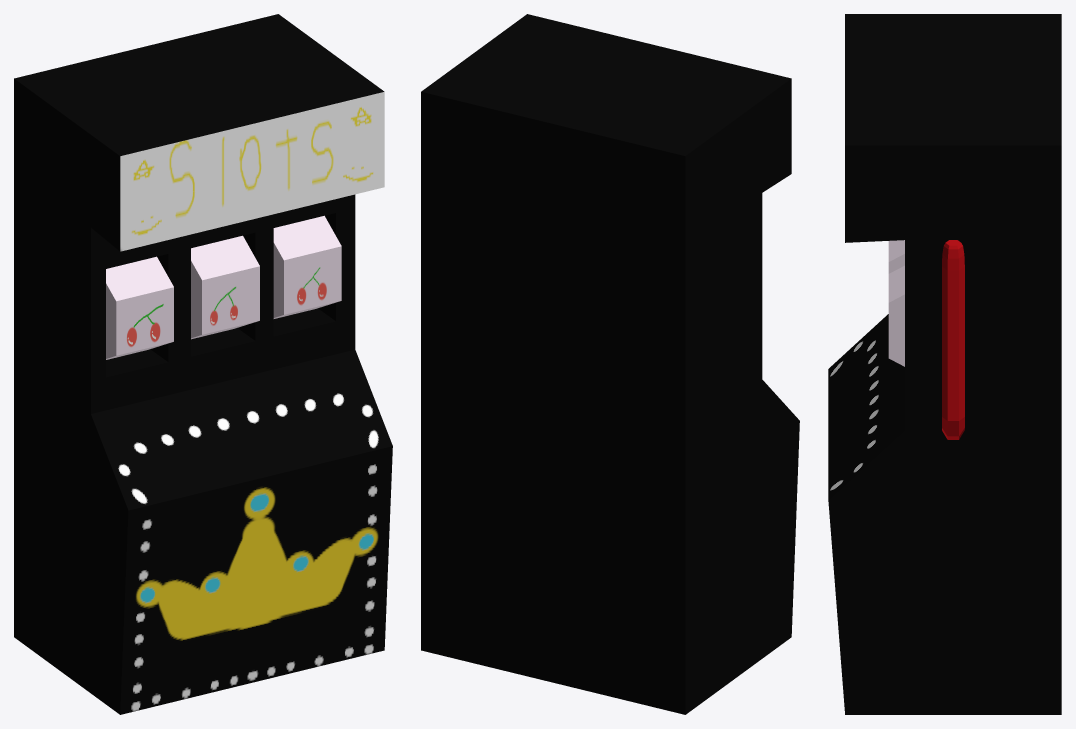
The model's file is SLOTMACHINE.fbx.
3 views of the same model, side by side, from view 1: azimuth 30°, elevation 25°; view 2: azimuth 150°, elevation 25°; view 3: azimuth 270°, elevation 25° (orthographic).
Visible parts, largest first — view 1: Cube, Cylinder, Cylinder.002, Cylinder.004; view 2: Cube; view 3: Cube, Cylinder.006, Cylinder.002, Cylinder.
Boxes of the visible parts, <box> form: Cube: <box>14,14,392,714</box>; Cylinder: <box>191,235,259,339</box>; Cylinder.002: <box>273,215,341,318</box>; Cylinder.004: <box>106,256,173,359</box>; Cube: <box>421,14,799,714</box>; Cube: <box>828,14,1061,714</box>; Cylinder.006: <box>942,240,964,439</box>; Cylinder.002: <box>888,265,904,366</box>; Cylinder: <box>888,240,904,273</box>.
Bounding box in the file's own units: 310 × 581 × 215.
5 materials, 5 textured.
